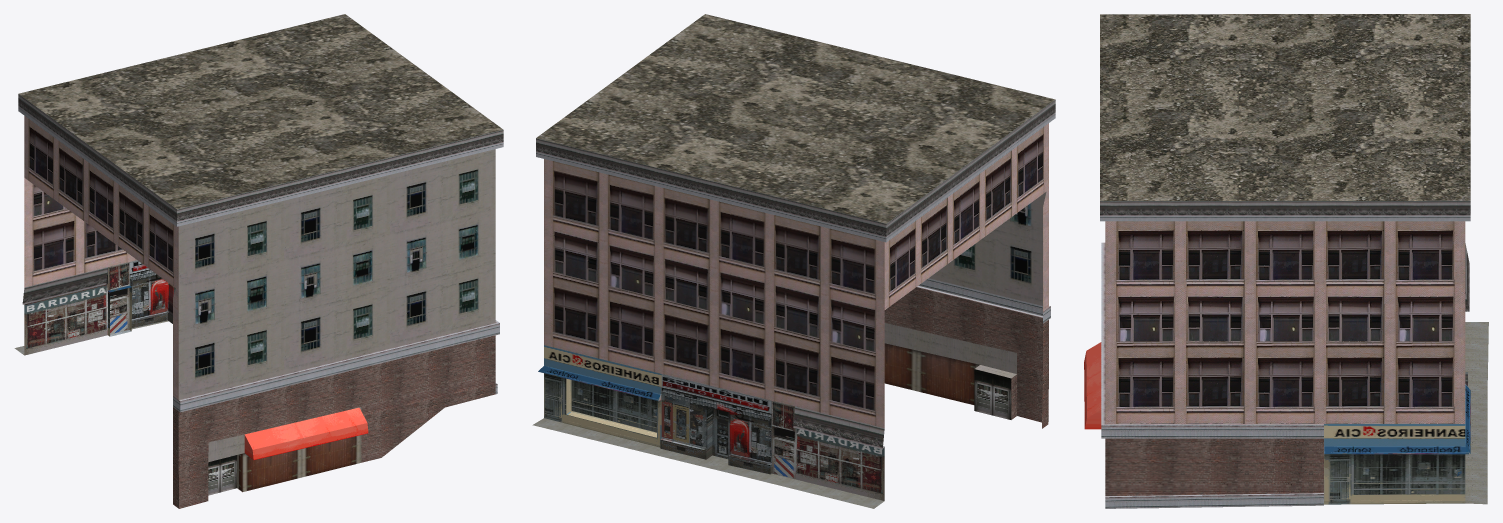
Rendered from ladtbuild1_lan2.obj.
3 views of the same model, side by side, from view 1: azimuth 30°, elevation 25°; view 2: azimuth 150°, elevation 25°; view 3: azimuth 270°, elevation 25° (orthographic). The views are drawn at different scales.
Visible parts, largest first — view 1: LAdtbuild1_LAn2; view 2: LAdtbuild1_LAn2; view 3: LAdtbuild1_LAn2.
Part boxes in pixels (box(x1,y1,x2,y2)): LAdtbuild1_LAn2: box(14, 14, 503, 508); LAdtbuild1_LAn2: box(532, 14, 1055, 508); LAdtbuild1_LAn2: box(1084, 14, 1488, 508).
Size of the model in its own units: 34.45 by 30.43 by 31.53.
